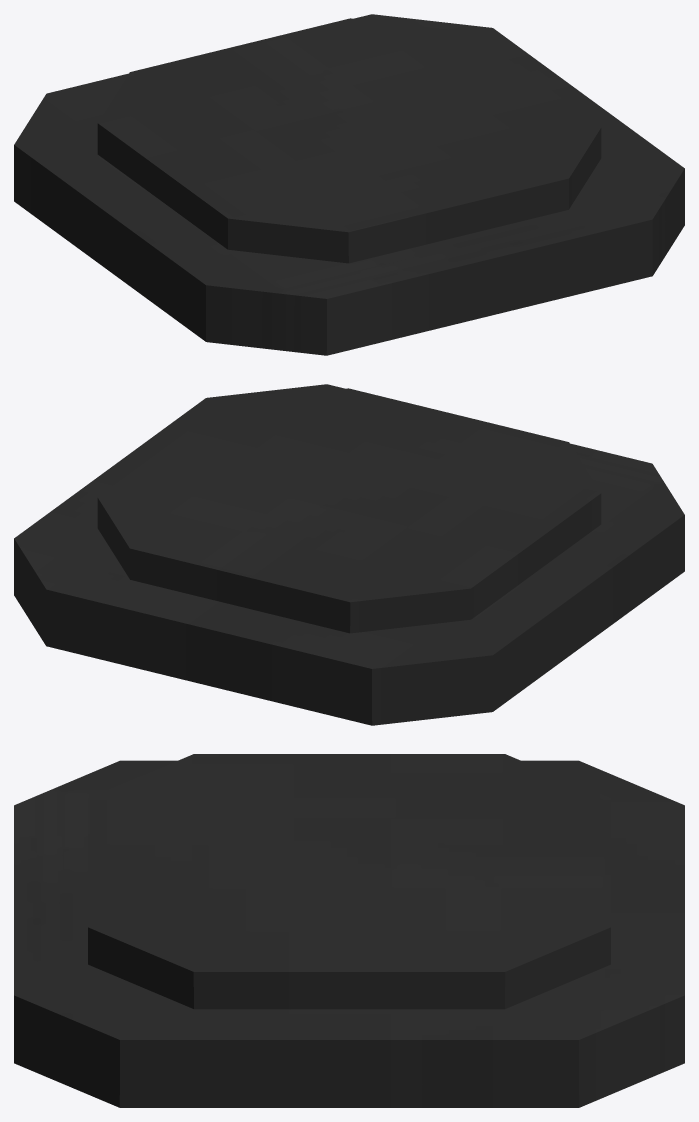
Rendered from Stand.fbx.
3 views of the same model, one above another, from view 1: azimuth 30°, elevation 25°; view 2: azimuth 150°, elevation 25°; view 3: azimuth 270°, elevation 25° (orthographic). The views are drawn at different scales.
Parts seen in each view (by area): view 1: Cube.036; view 2: Cube.036; view 3: Cube.036.
Part boxes in pixels (x1=…): Cube.036: x1=14, y1=14, x2=684, y2=355; Cube.036: x1=14, y1=384, x2=684, y2=725; Cube.036: x1=14, y1=754, x2=684, y2=1107.
Size of the model in its own units: 330 by 57.9 by 335.
Materials: 1 (1 with a texture image).
